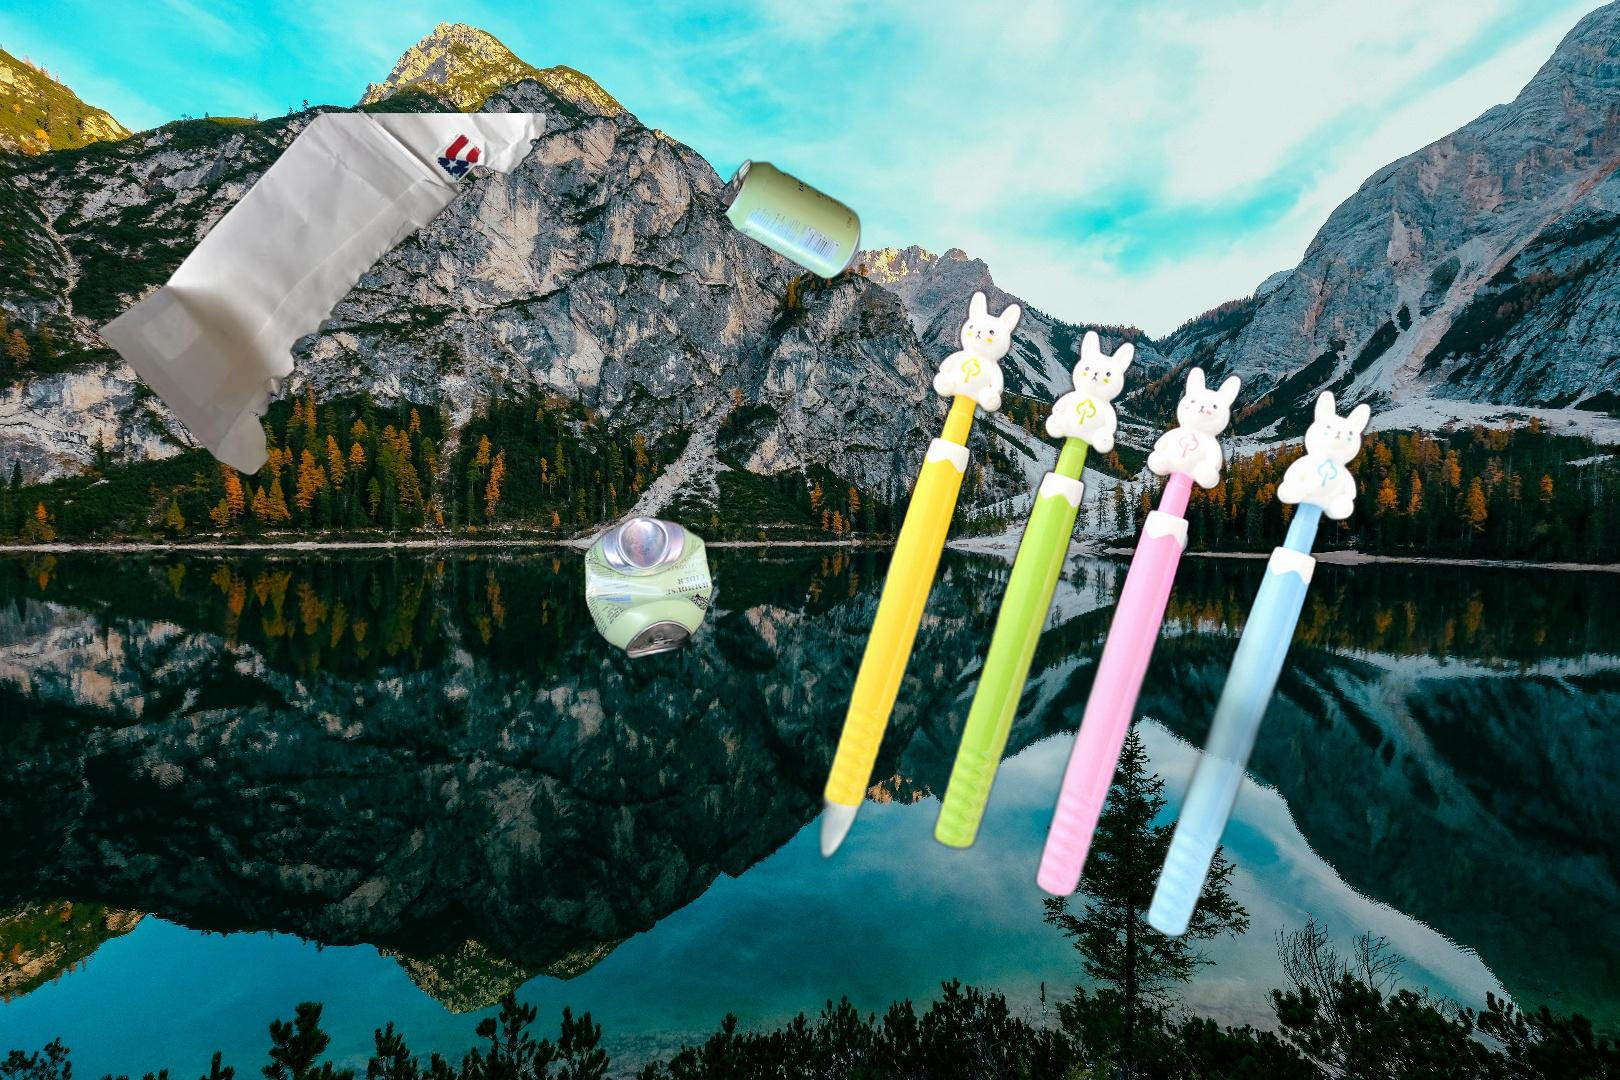metal-cans: (580, 511, 940, 665), (720, 154, 865, 284)
paper: (93, 113, 546, 479)
penholder: (689, 236, 1380, 996)
plastic-bottles: (1552, 689, 1620, 1080)
